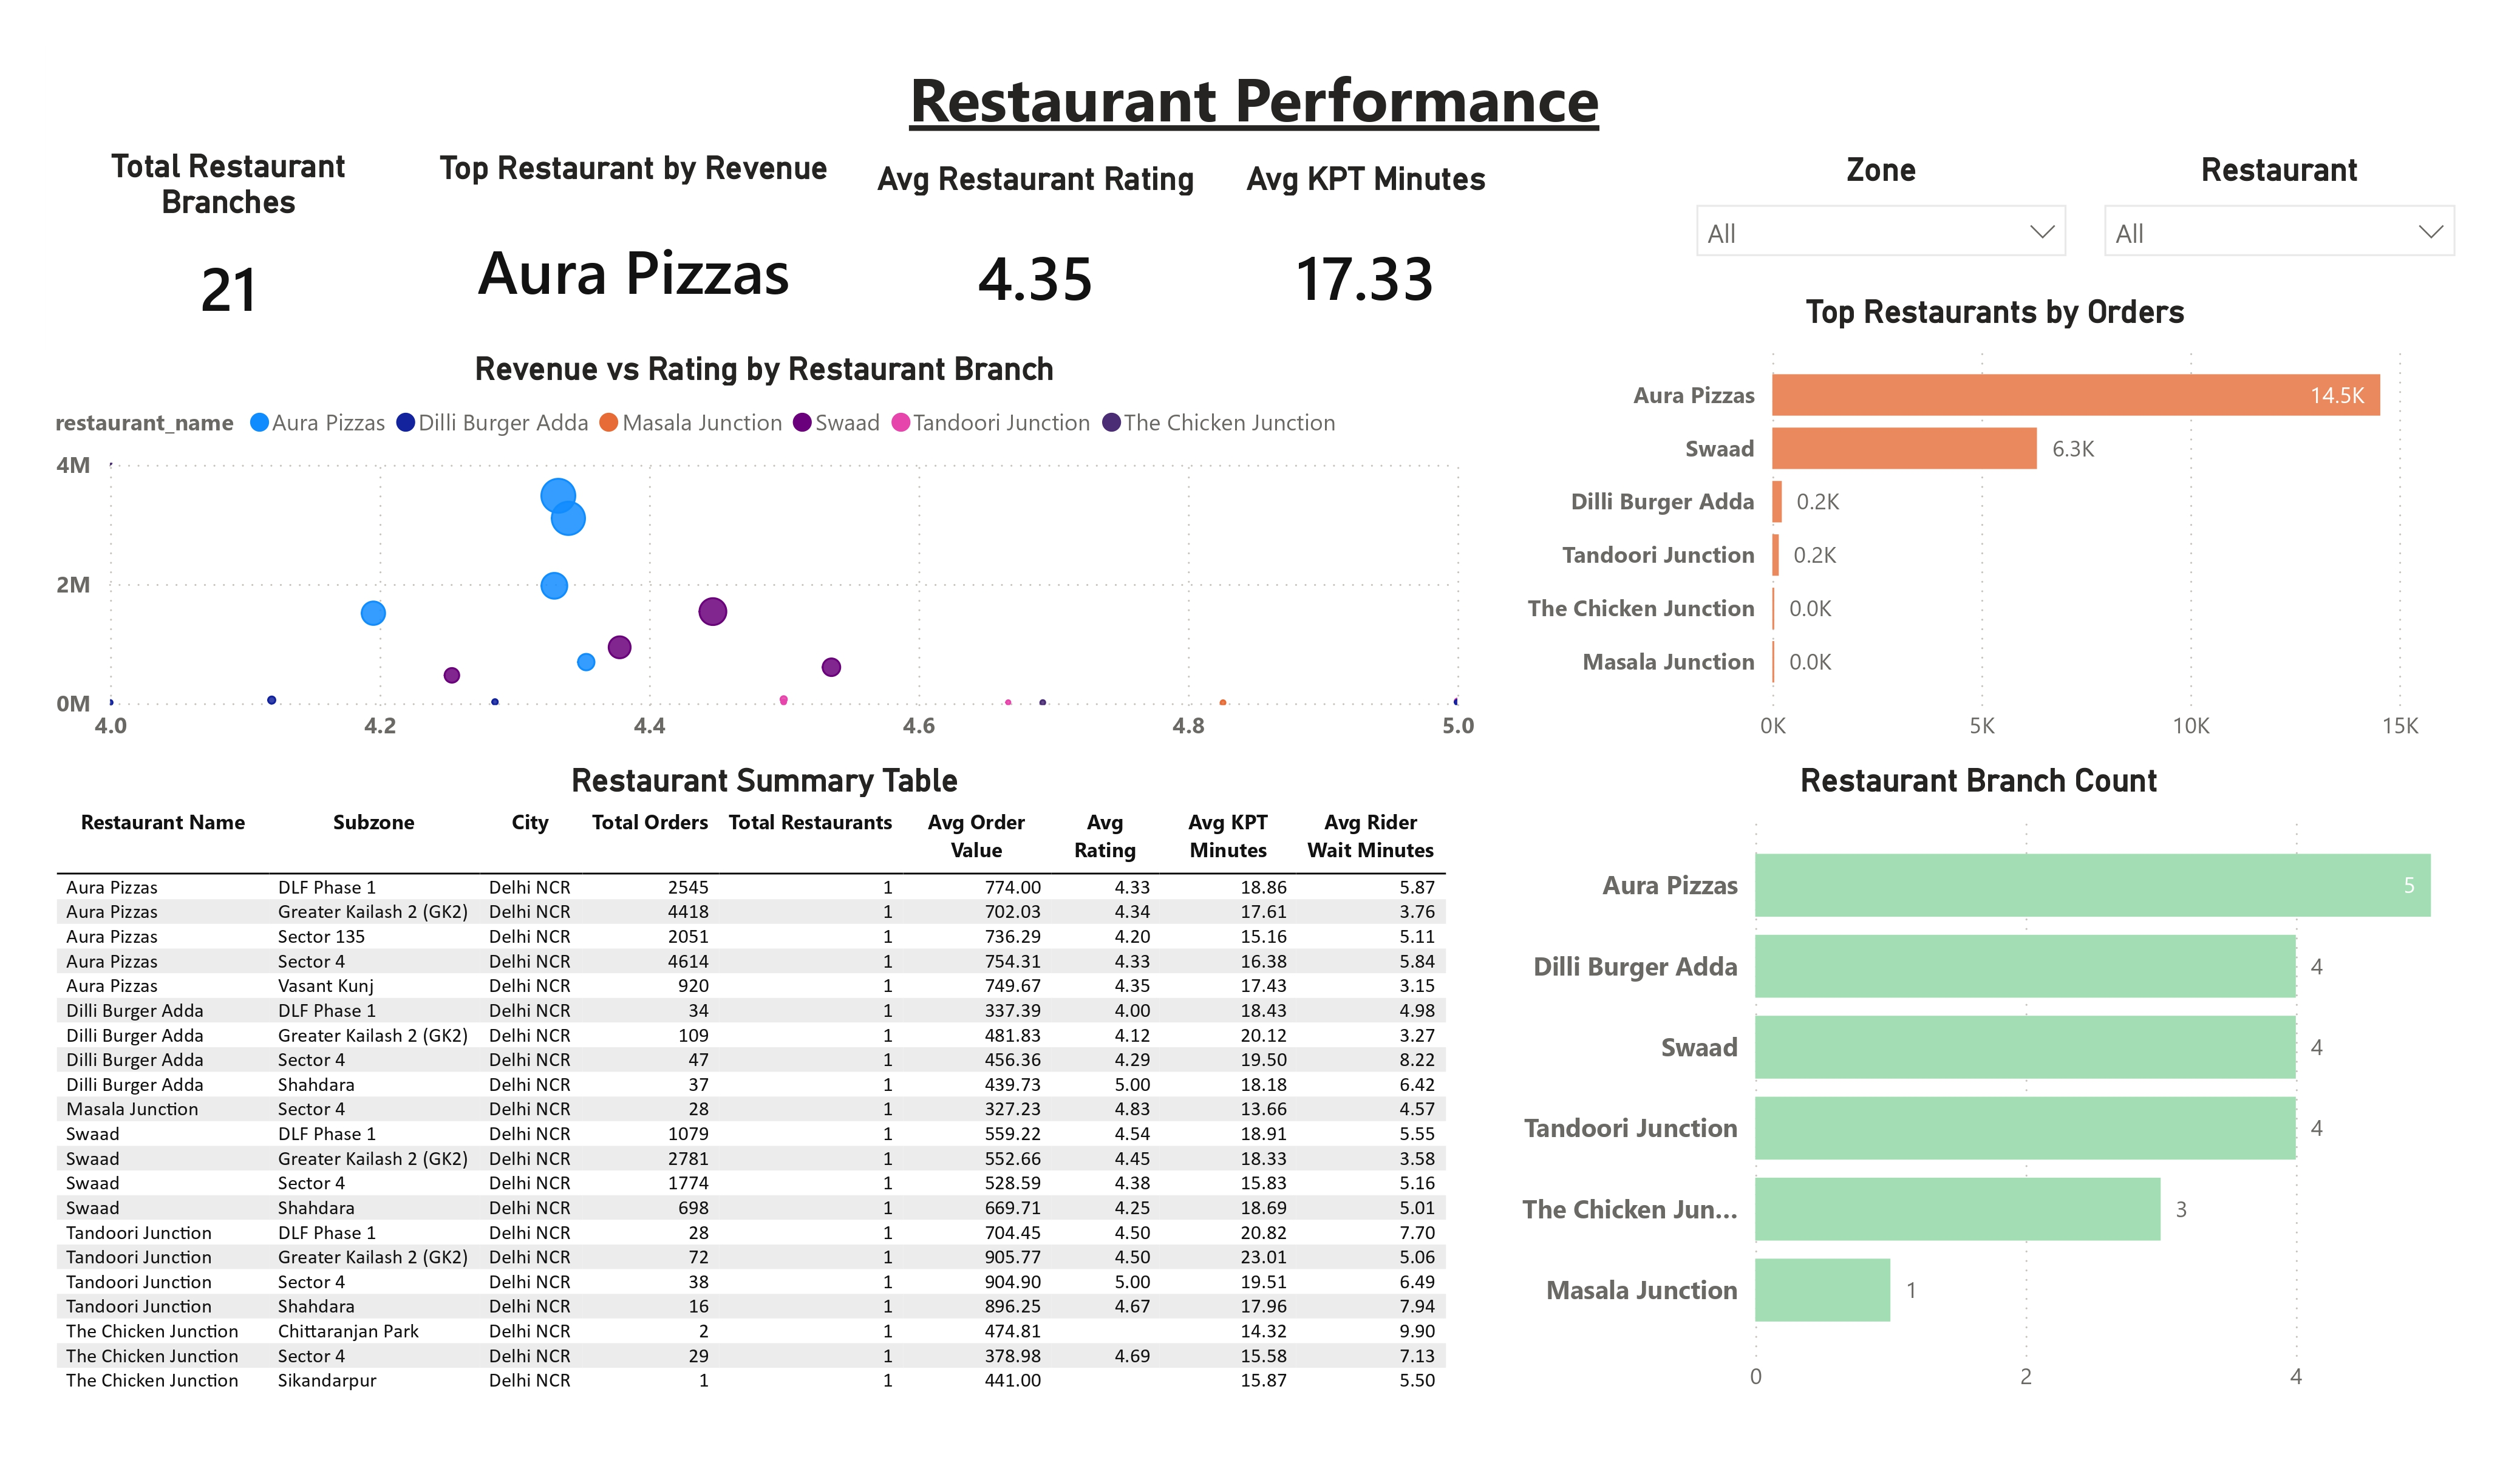

The dashboard page shown, as its layout file describes it:
{"tool":"powerbi","page":{"name":"Restaurant Performance","canvas":[1280,720],"ordinal":2},"visuals":[{"type":"textbox","box":[450,0,382,54],"z":0},{"type":"cardVisual","title":"Total Restaurant Branches","fields":{"Data":["mart_restaurant_performance.Total Restaurants"]},"box":[0,53.3,193.3,106.7],"z":1000},{"type":"cardVisual","title":"Top Restaurant by Revenue","fields":{"Data":["mart_restaurant_performance.Top Restaurant by Revenue"]},"box":[194,54,232,106],"z":2000},{"type":"cardVisual","title":"Avg Restaurant Rating","fields":{"Data":["mart_restaurant_performance.Avg Restaurant Rating"]},"box":[426,60,192,100],"z":3000},{"type":"cardVisual","title":"Avg KPT Minutes","fields":{"Data":["mart_restaurant_performance.Avg KPT Minutes"]},"box":[618,60,156,100],"z":4000},{"type":"barChart","title":"Restaurant Branch Count","fields":{"Category":["mart_restaurant_performance.restaurant_name"],"Y":["mart_restaurant_performance.Total Restaurants"]},"box":[758.3,376.7,521.7,343.3],"z":5000},{"type":"barChart","title":"Top Restaurants by Orders","fields":{"Category":["mart_restaurant_performance.restaurant_name"],"Y":["Sum(mart_restaurant_performance.total_orders)"]},"box":[775,130,505,246.7],"z":6000},{"type":"scatterChart","title":"Revenue vs Rating by Restaurant Branch","fields":{"X":["mart_restaurant_performance.avg_rating"],"Size":["Sum(mart_restaurant_performance.total_orders)"],"Series":["mart_restaurant_performance.restaurant_name"],"Y":["mart_restaurant_performance.total_revenue"]},"box":[0,160,758.3,216.7],"z":7000},{"type":"tableEx","title":"Restaurant Summary Table","fields":{"Values":["mart_restaurant_performance.restaurant_name","mart_restaurant_performance.subzone","mart_restaurant_performance.city","mart_restaurant_performance.total_orders","mart_restaurant_performance.Total Restaurants","mart_restaurant_performance.avg_order_value","mart_restaurant_performance.avg_rating","mart_restaurant_performance.Avg KPT Minutes","mart_restaurant_performance.avg_rider_wait_minutes"]},"box":[0,376.7,758.3,343.3],"z":8000},{"type":"slicer","title":"Zone","fields":{"Values":["mart_restaurant_performance.subzone"]},"box":[860,55,215,75],"z":9000},{"type":"slicer","title":"Restaurant","fields":{"Values":["mart_restaurant_performance.restaurant_name"]},"box":[1075,55,205,75],"z":10000}]}

Visuals, with their boxes on the page's 1280x720 design canvas (x1, y1, x2, y2). These are canvas units, not pixel positions in the 2520x1457 screenshot, which may show the page scaled, cropped or inside an application window:
textbox: Rect(450, 0, 832, 54)
"Total Restaurant Branches" cardVisual: Rect(0, 53, 193, 160)
"Top Restaurant by Revenue" cardVisual: Rect(194, 54, 426, 160)
"Avg Restaurant Rating" cardVisual: Rect(426, 60, 618, 160)
"Avg KPT Minutes" cardVisual: Rect(618, 60, 774, 160)
"Restaurant Branch Count" barChart: Rect(758, 377, 1280, 720)
"Top Restaurants by Orders" barChart: Rect(775, 130, 1280, 377)
"Revenue vs Rating by Restaurant Branch" scatterChart: Rect(0, 160, 758, 377)
"Restaurant Summary Table" tableEx: Rect(0, 377, 758, 720)
"Zone" slicer: Rect(860, 55, 1075, 130)
"Restaurant" slicer: Rect(1075, 55, 1280, 130)
